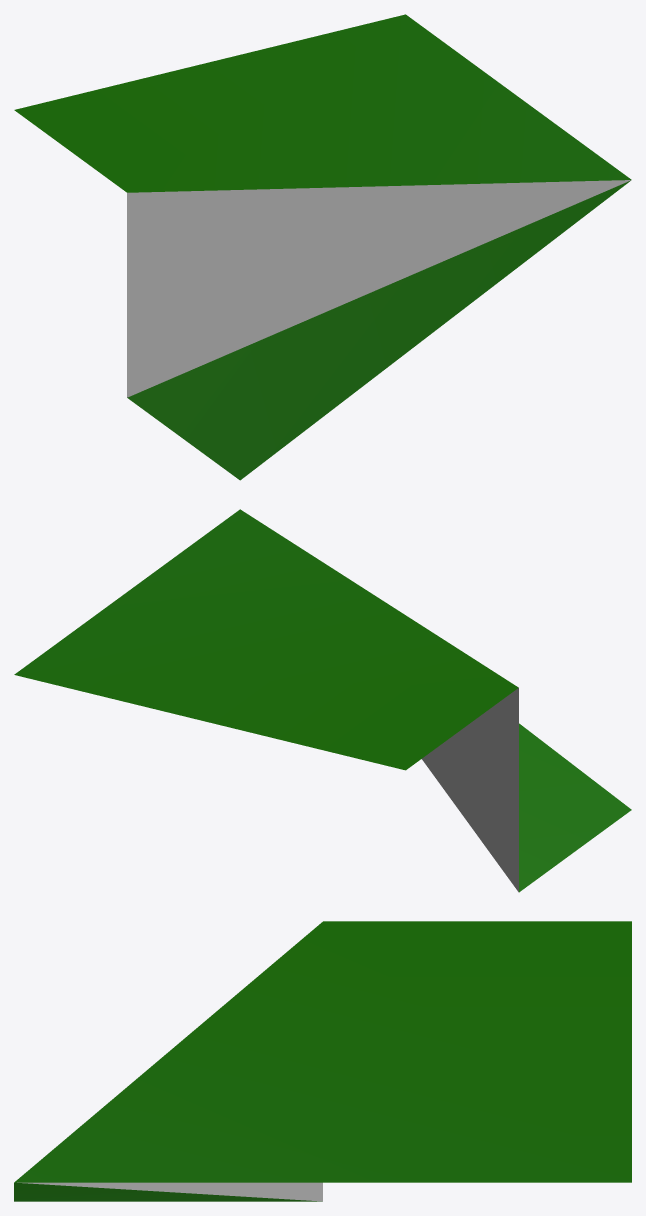
The model's file is wfc_module_18.fbx.
3 views of the same model, one above another, from view 1: azimuth 30°, elevation 25°; view 2: azimuth 150°, elevation 25°; view 3: azimuth 270°, elevation 25° (orthographic). The views are drawn at different scales.
Parts seen in each view (by area): view 1: wfc_module_18; view 2: wfc_module_18; view 3: wfc_module_18.
Boxes of the visible parts, <box> form: wfc_module_18: <box>14,14,631,480</box>; wfc_module_18: <box>14,509,631,892</box>; wfc_module_18: <box>14,921,631,1201</box>.
Size of the model in its own units: 100 by 50 by 100.
